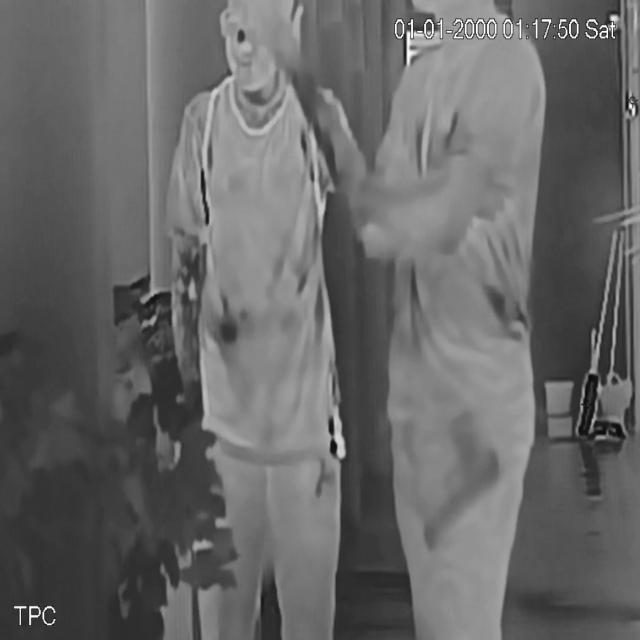Weapon: (405, 409, 514, 558)
